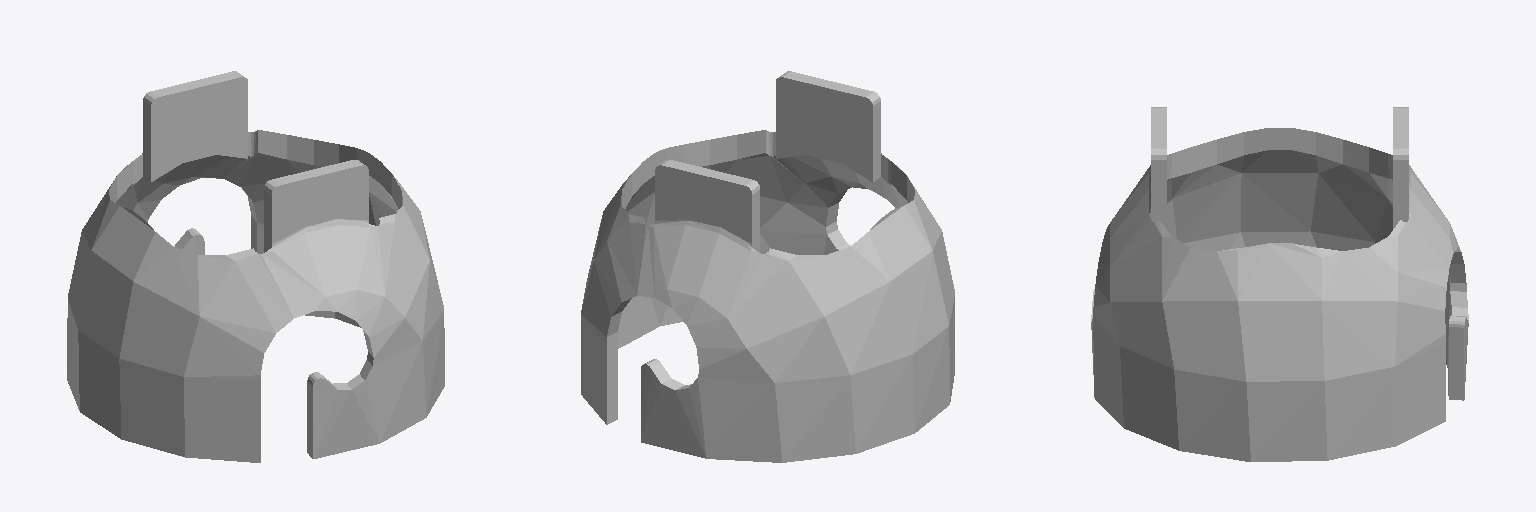
The model's file is 77. Колпак верхней крышки.obj.
3 views of the same model, side by side, from view 1: azimuth 30°, elevation 25°; view 2: azimuth 150°, elevation 25°; view 3: azimuth 270°, elevation 25° (orthographic).
Visible parts, largest first — view 1: Твердое тело1; view 2: Твердое тело1; view 3: Твердое тело1.
Boxes of the visible parts, x1=… form: Твердое тело1: x1=67, y1=71, x2=444, y2=462; Твердое тело1: x1=581, y1=71, x2=954, y2=462; Твердое тело1: x1=1091, y1=107, x2=1468, y2=461.
Bounding box in the file's own units: 46.44 × 35 × 47.